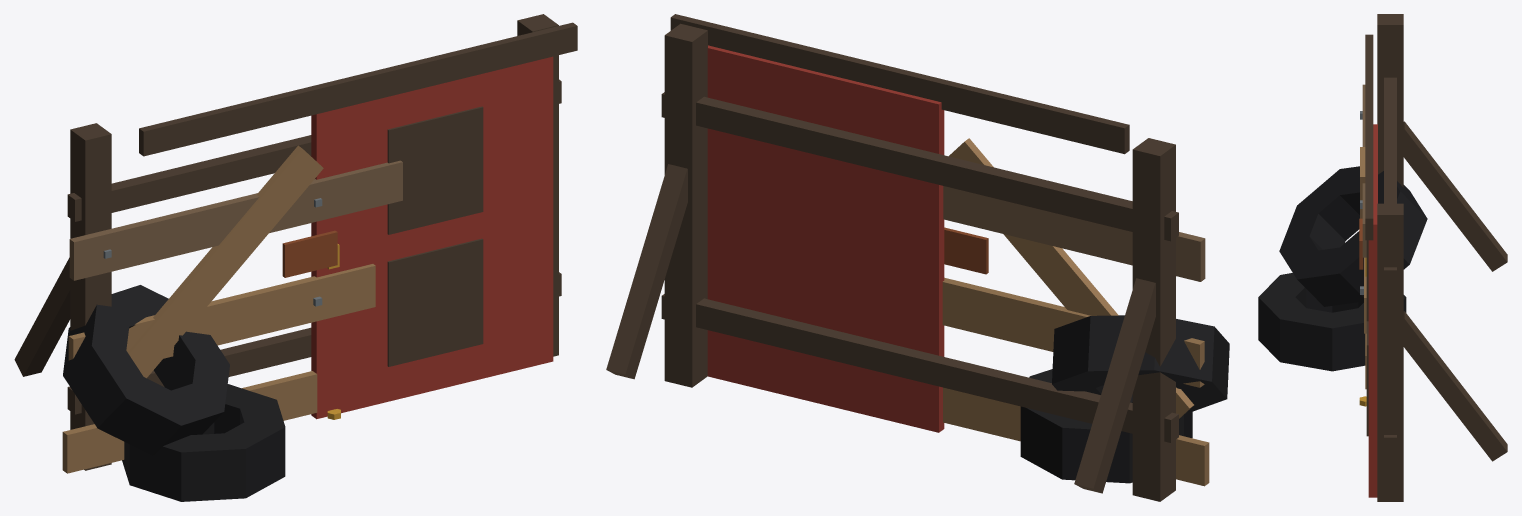
File: base_barricade.glb
3 views of the same model, side by side, from view 1: azimuth 30°, elevation 25°; view 2: azimuth 150°, elevation 25°; view 3: azimuth 270°, elevation 25° (orthographic). The views are drawn at different scales.
Parts seen in each view (by area): view 1: base_barricade; view 2: base_barricade; view 3: base_barricade.
Boxes of the visible parts, x1,y1,x2,y2 form: base_barricade: [14, 14, 577, 501]; base_barricade: [606, 14, 1229, 501]; base_barricade: [1258, 14, 1507, 501].
Size of what is drawn, in the model's own units: 1.95 by 1.2 by 0.9437.
Materials: 2 (2 with a texture image).
